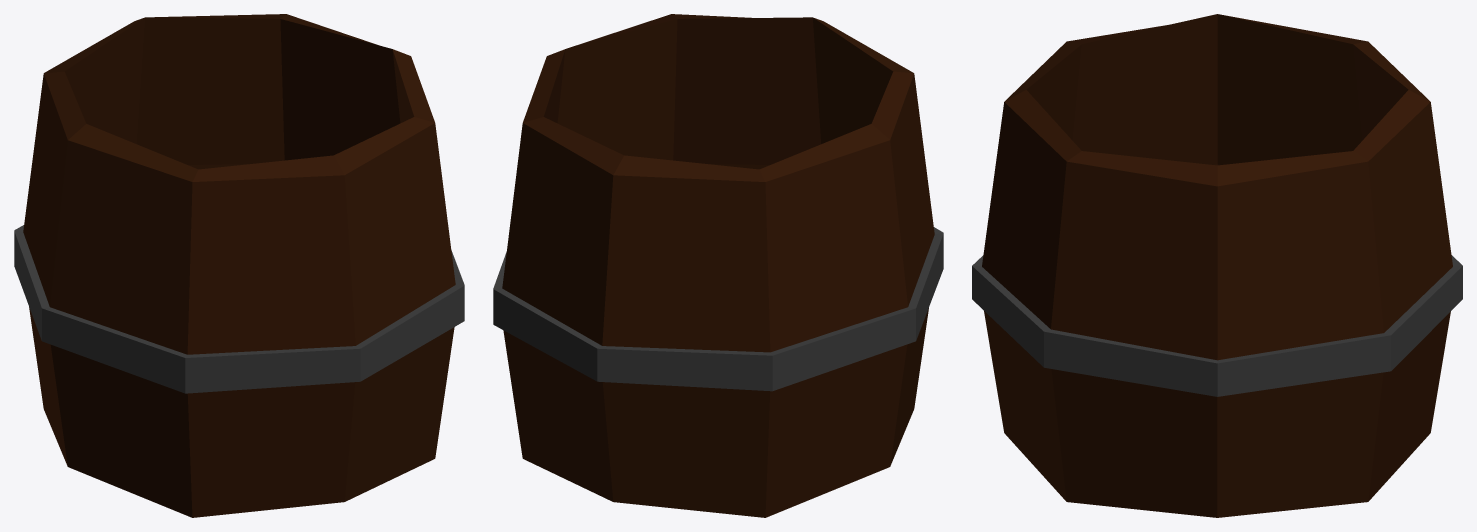
Rendered from barrel.fbx.
3 views of the same model, side by side, from view 1: azimuth 30°, elevation 25°; view 2: azimuth 150°, elevation 25°; view 3: azimuth 270°, elevation 25° (orthographic).
Visible parts, largest first — view 1: Cylinder; view 2: Cylinder; view 3: Cylinder.
Boxes of the visible parts, x1,y1,x2,y2 form: Cylinder: (14, 14, 464, 517); Cylinder: (493, 14, 943, 517); Cylinder: (972, 14, 1462, 517).
Size of the model in its own units: 1401 by 1177 by 1487.
